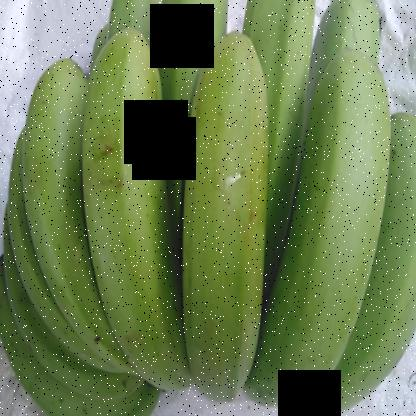freshunripe: (265, 39, 391, 415), (362, 98, 415, 415), (229, 0, 322, 169), (156, 0, 230, 181)
unripe: (80, 13, 205, 356), (168, 20, 276, 415), (15, 39, 105, 321)
